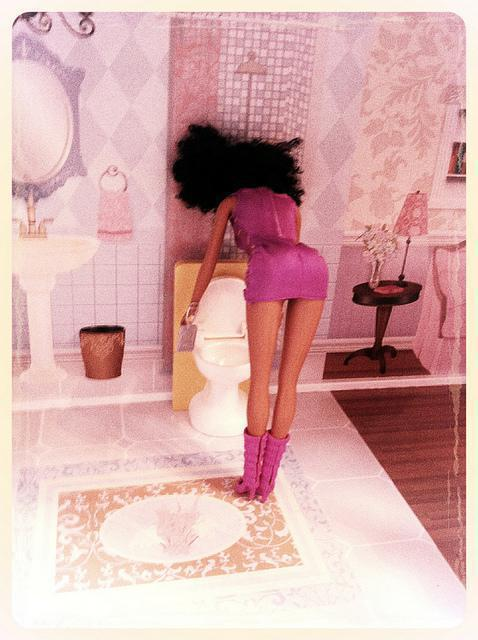Lavamanos: (13, 185, 94, 388)
Sanitario: (186, 276, 300, 437), (76, 331, 126, 382)
